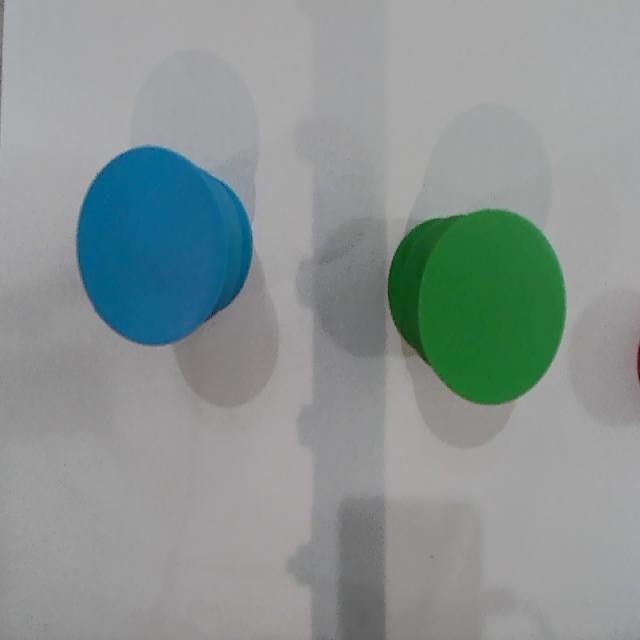b: (77, 145, 225, 347)
g: (420, 210, 567, 406)
